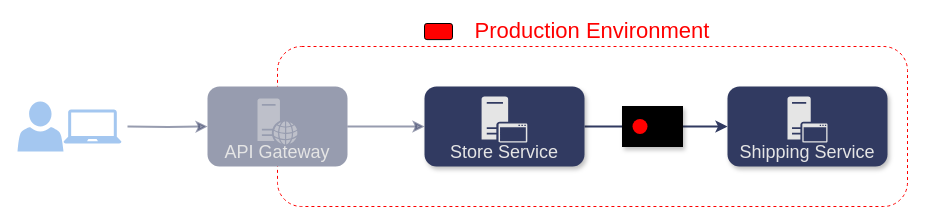
This 925x224 diagram has some shape labels left out. The shapes that lost their labels are listed below. From the top down, each one's centre as x and y in pixels, then its label:
the point at 438,31: LIVE
the point at 639,126: REC
